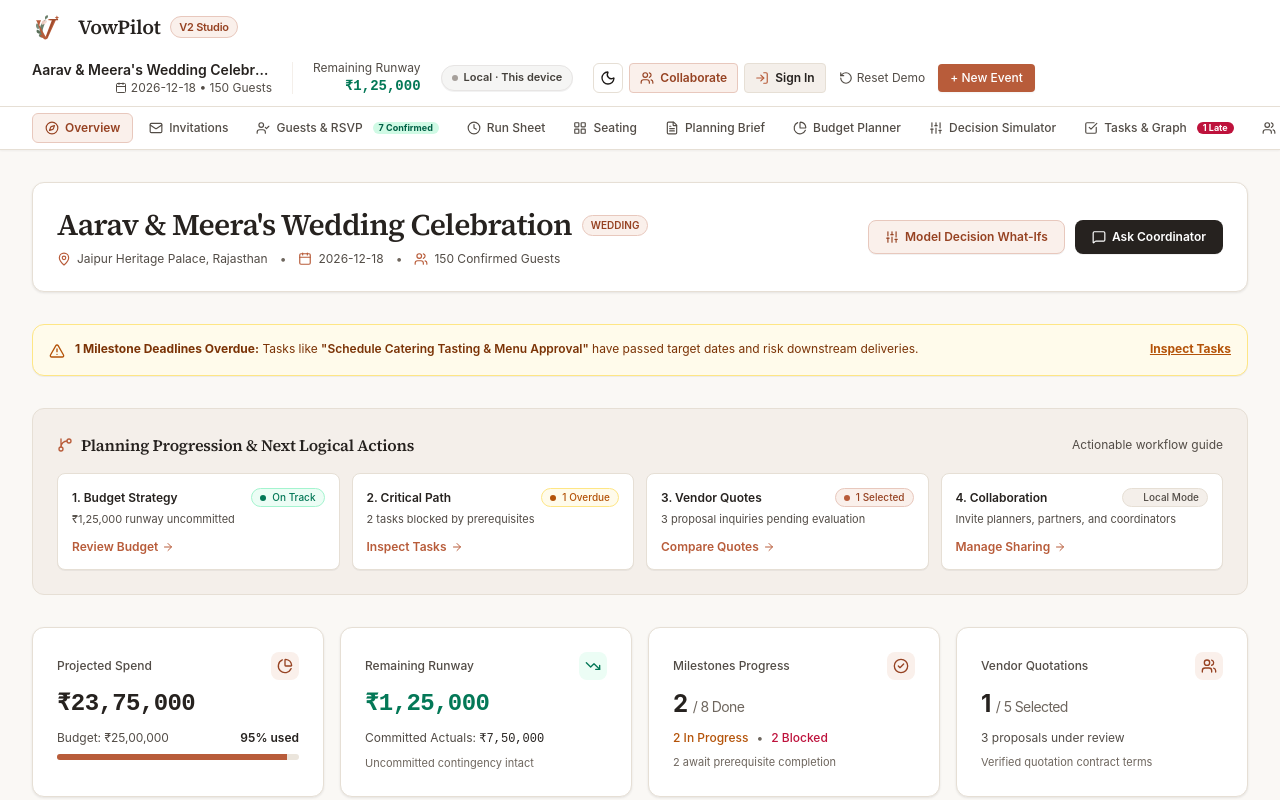
Test: VowPilot End-to-End User Journeys and UI Integration › simulates guest count changes in simulator without altering confirmed plan
The image size is (1280, 800).
# Navigate to Decision Simulator
Click the button "Decision Simulator": (993, 128) x1=917 y1=113 x2=1068 y2=143
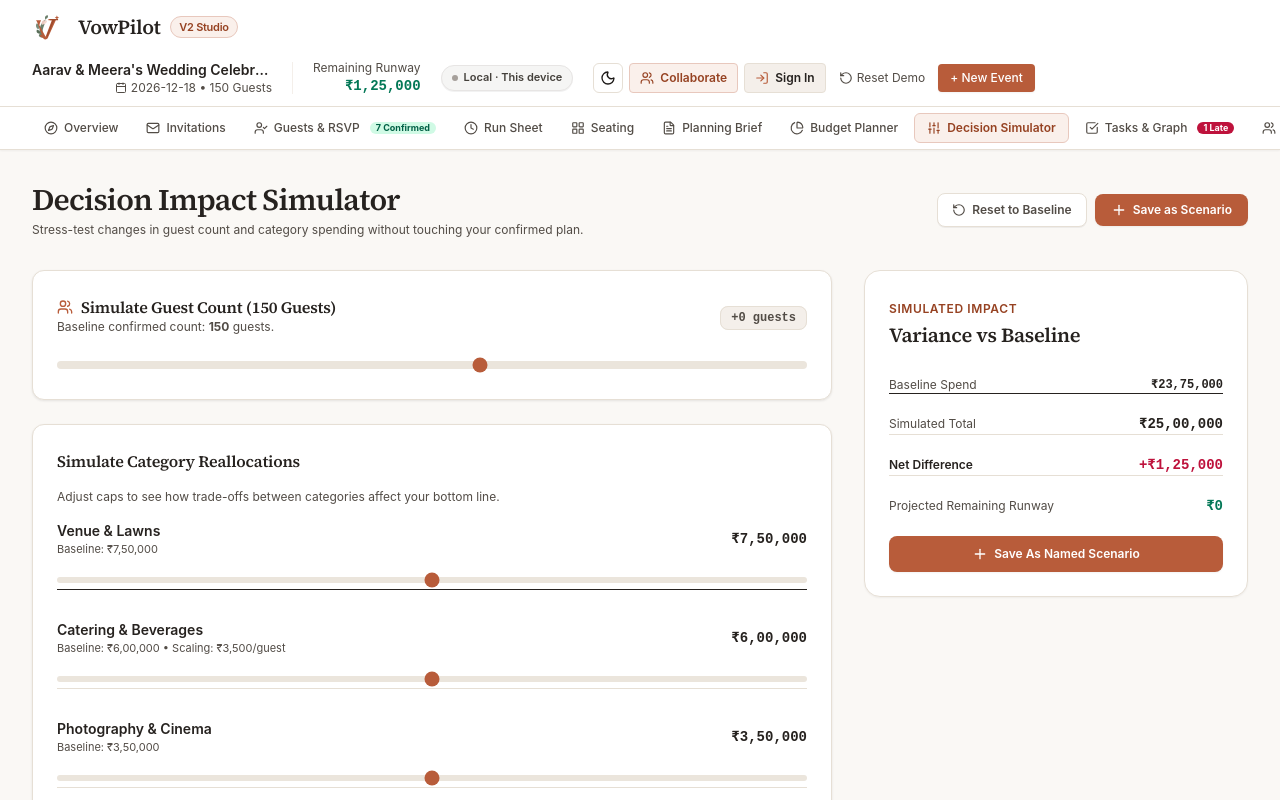
Check: the heading "Simulate Guest Count (150 Guests)" is shown, box x1=57 y1=295 x2=336 y2=319
Check: the heading "Variance vs Baseline" is shown, box x1=889 y1=321 x2=1080 y2=349
# Save as scenario modal can open
Click the button "Save as Scenario": (1171, 210) x1=1095 y1=194 x2=1248 y2=226
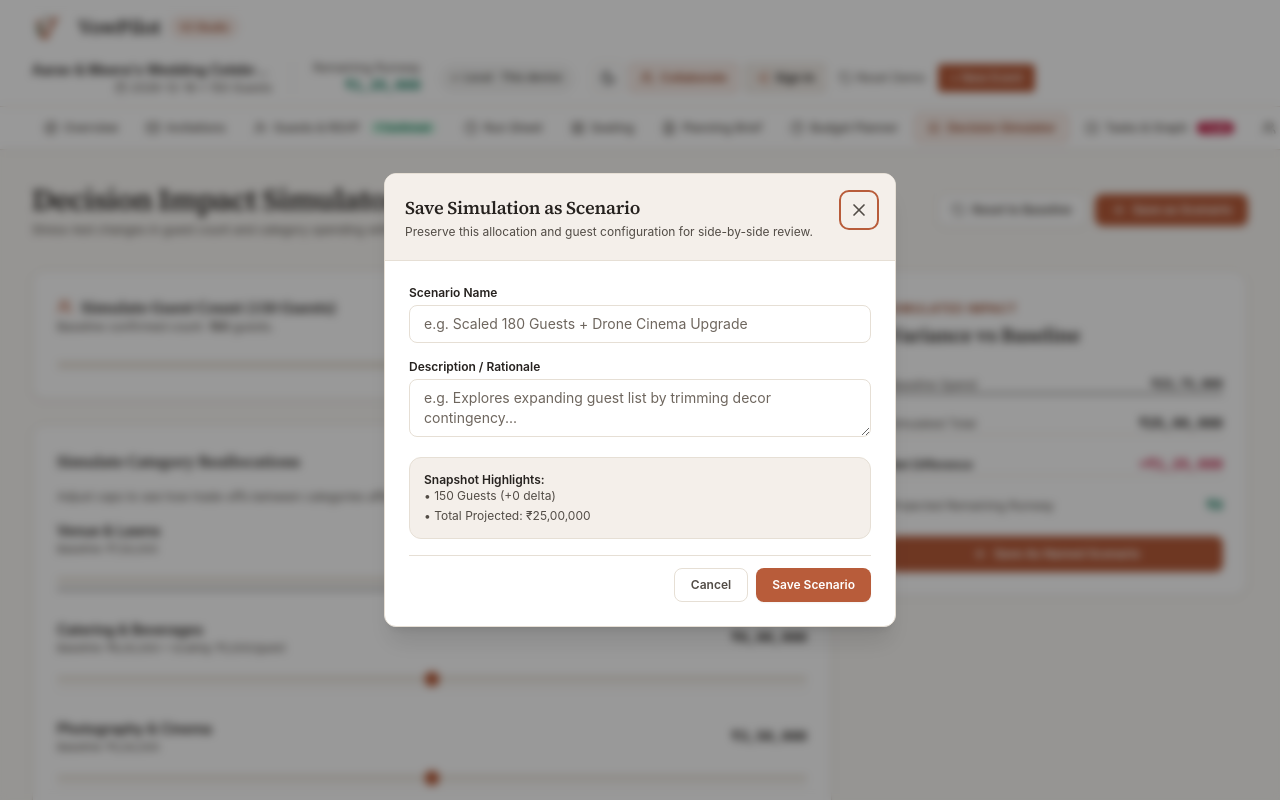
Check: the heading "Save Simulation as Scenario" is shown, box x1=405 y1=195 x2=640 y2=220
